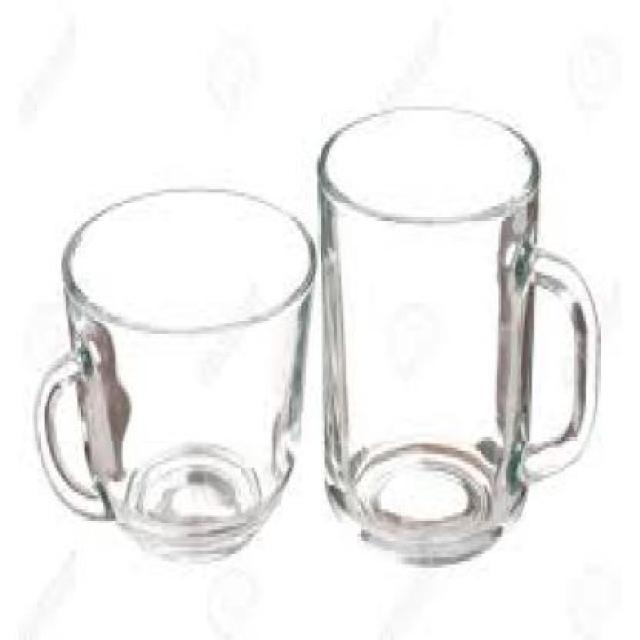kaca: (315, 103, 597, 562), (34, 183, 314, 562)
